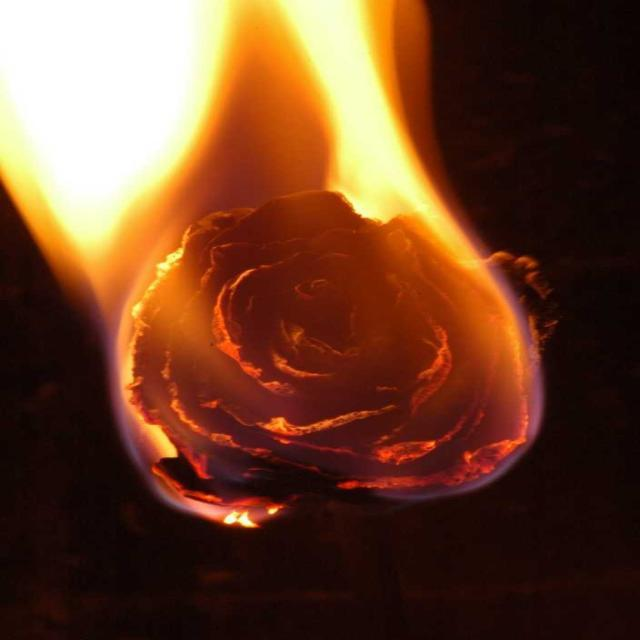Fire: (9, 6, 185, 185), (328, 23, 389, 196)
